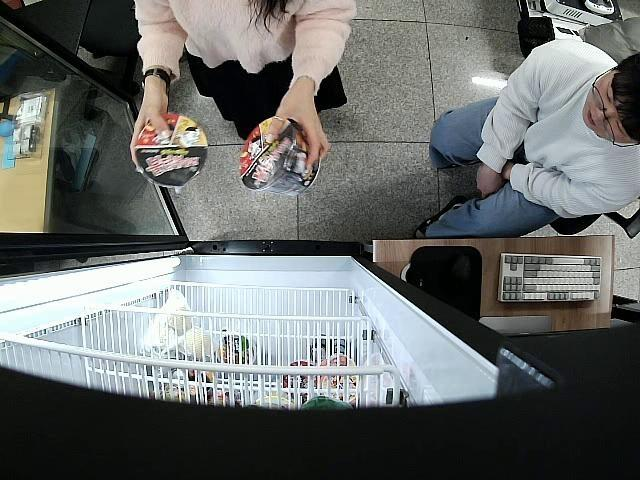07_buldak_L: (236, 116, 322, 200), (135, 114, 209, 186)
